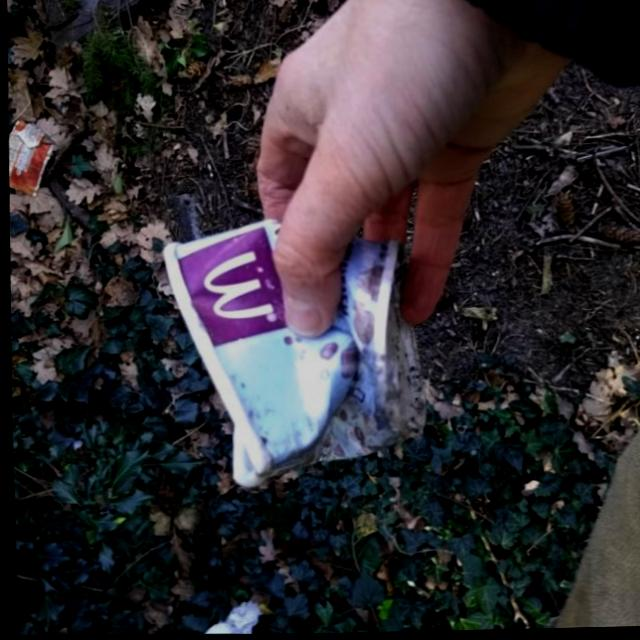Paper: (154, 211, 430, 495)
